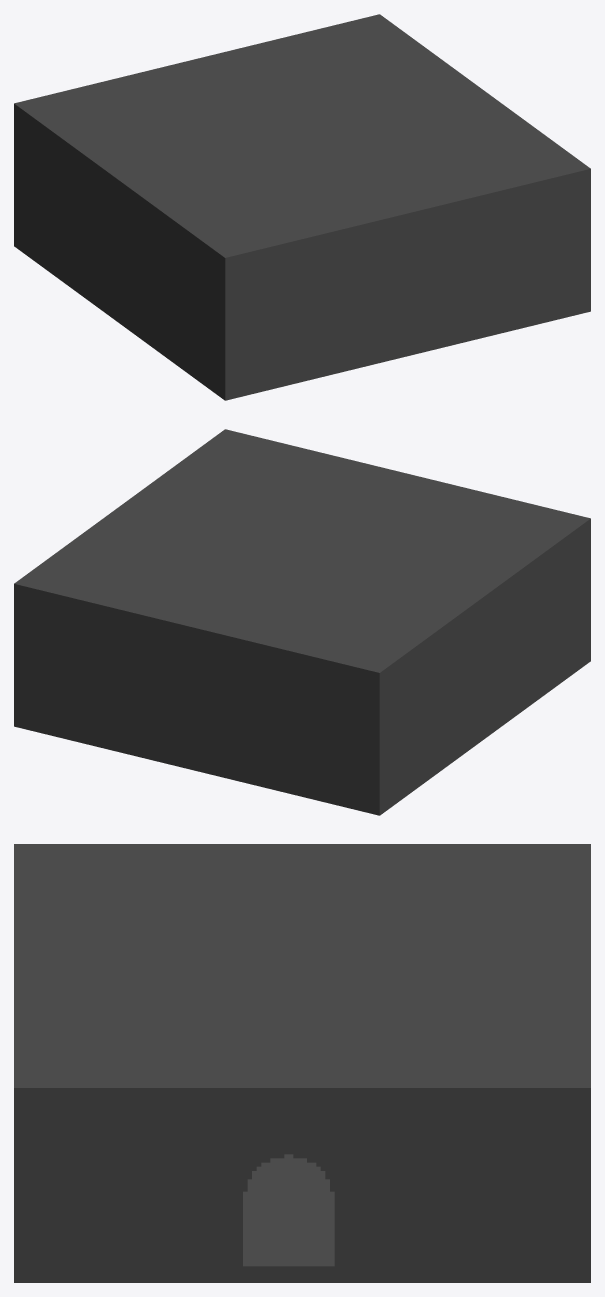
Rendered from Clinic.obj.
3 renders of one model, top to bottom at view 1: azimuth 30°, elevation 25°; view 2: azimuth 150°, elevation 25°; view 3: azimuth 270°, elevation 25°, orthographic. The views are drawn at different scales.
Bounding box in the file's own units: 126 × 47 × 126.
Materials: 1 (1 with a texture image).
